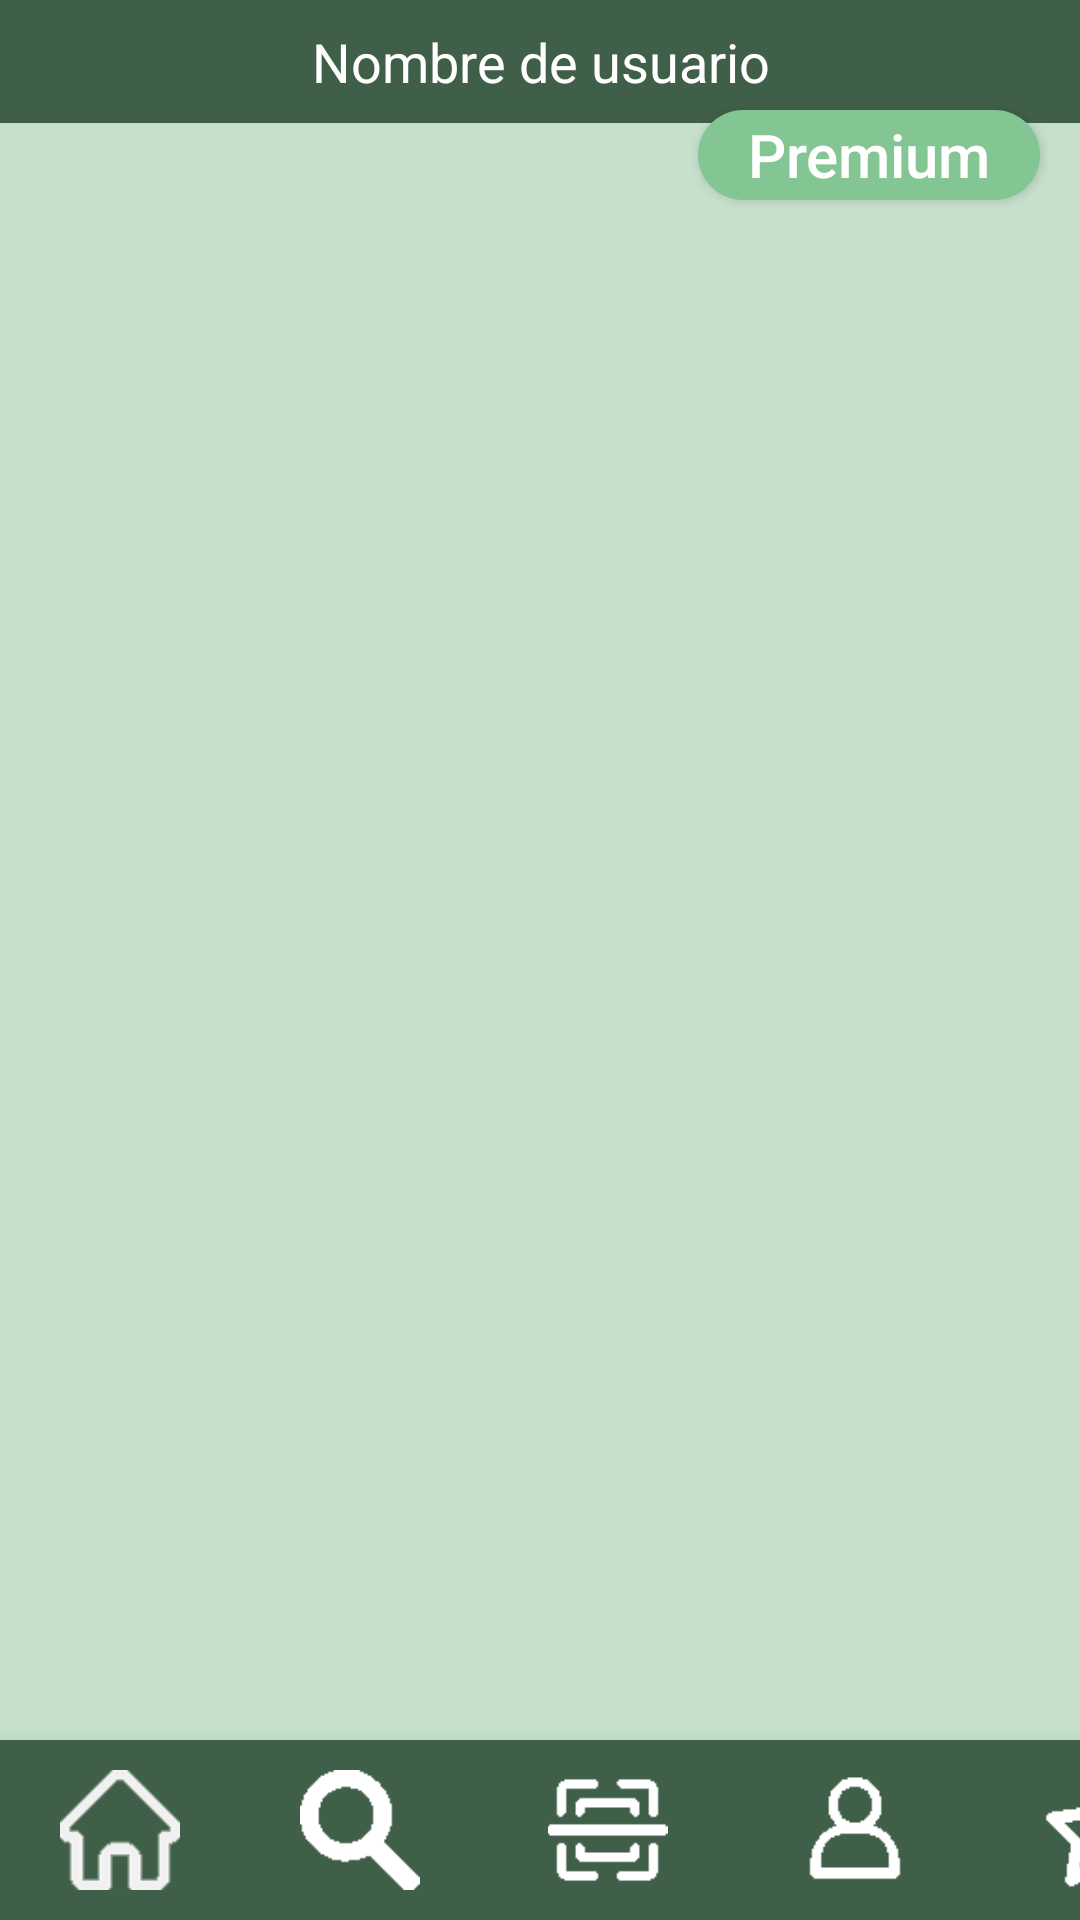

Point at icon controls on the screen. Image size 1080 × 1920, points as point (x, y).
casa: point (120, 1830)
lector: point (608, 1830)
lupa: point (360, 1830)
perfil: point (855, 1828)
